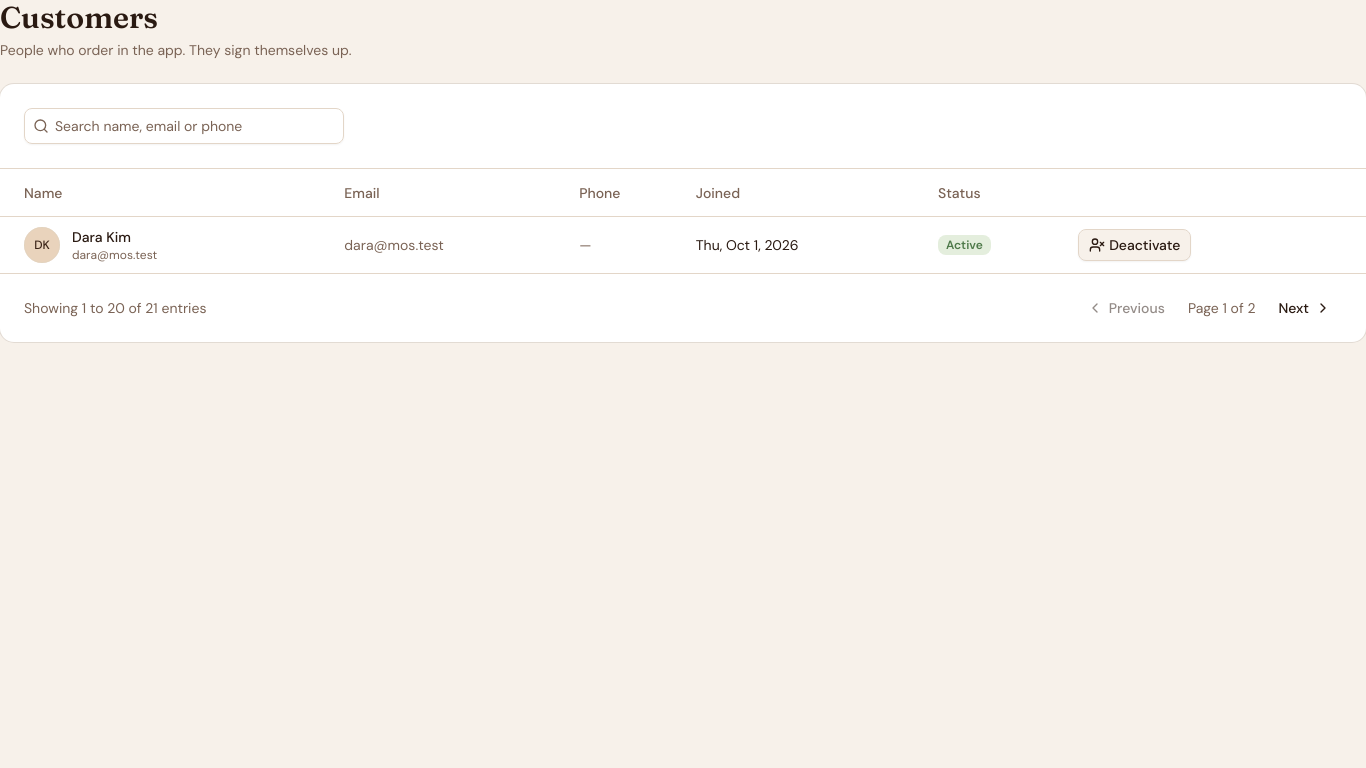
deactivates only after confirmation and displays the refreshed status
Click the button with aria-label "Deactivate Dara Kim" at [1135, 245], box [1078,229,1191,261]
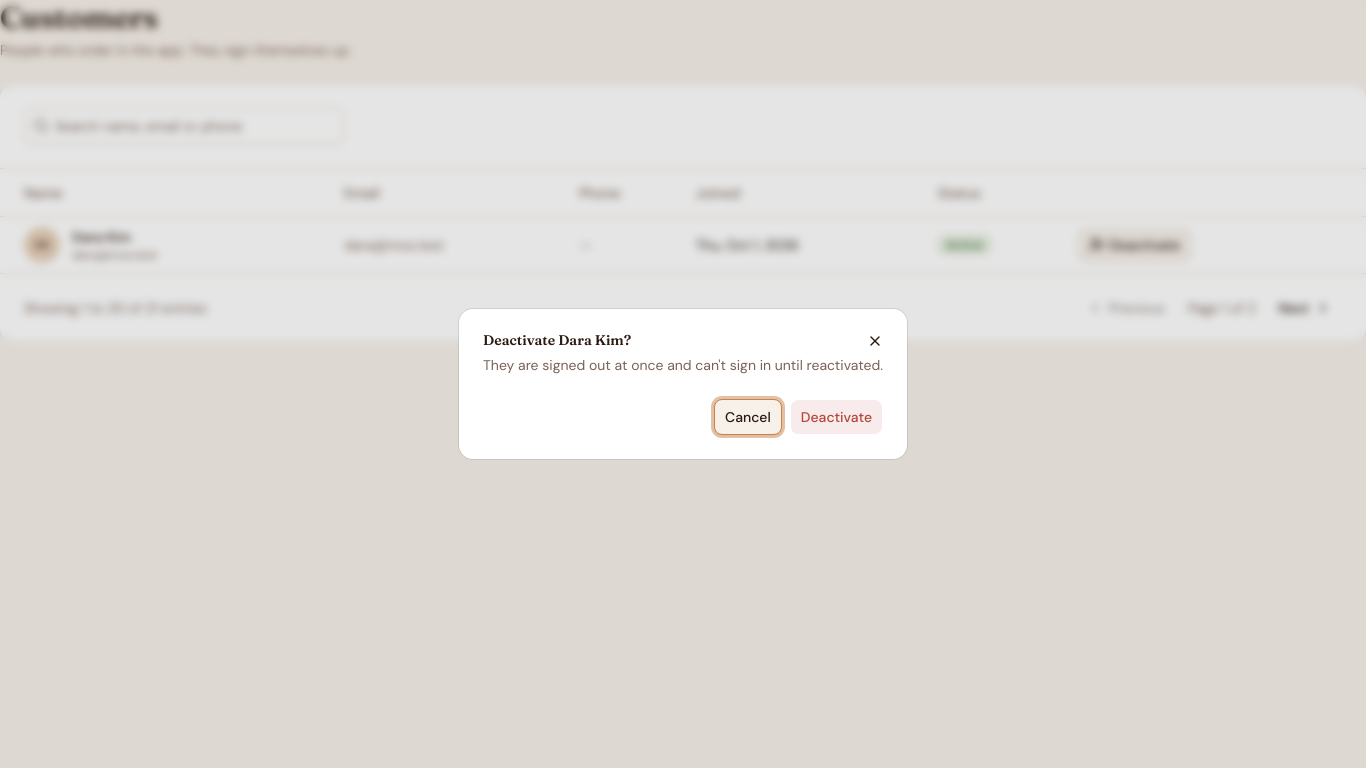
Click the button "Deactivate" at [836, 417], box [790,399,883,435]
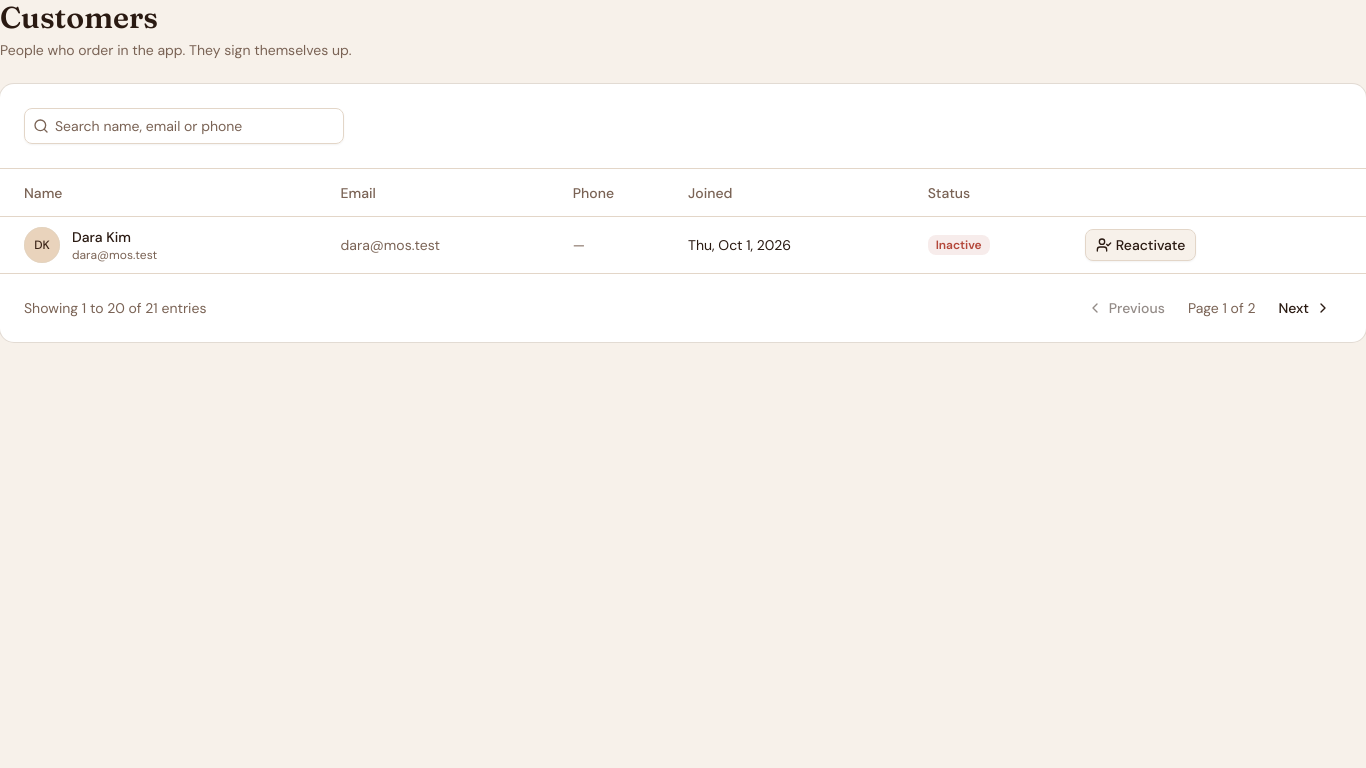
Check: the button with aria-label "Reactivate Dara Kim" is shown, box [1085,229,1196,261]
Check: the text "Dara Kim" shows "Inactive", box [936,237,982,253]
